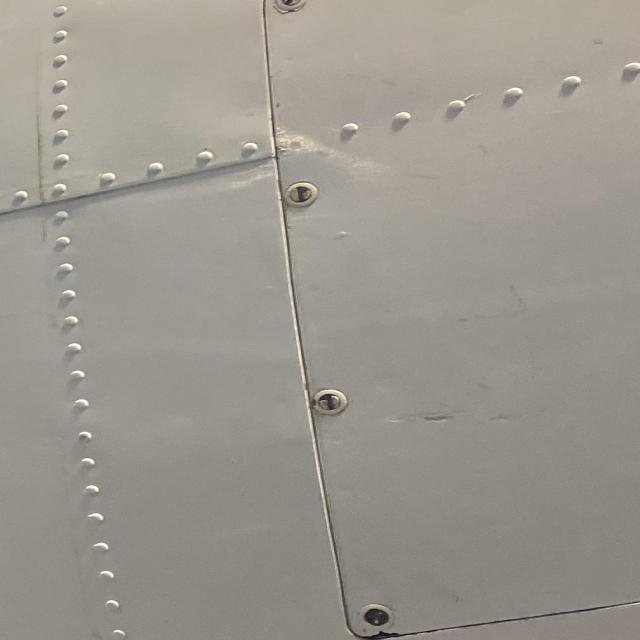Paint-off: (485, 411, 521, 426), (423, 412, 453, 425)
